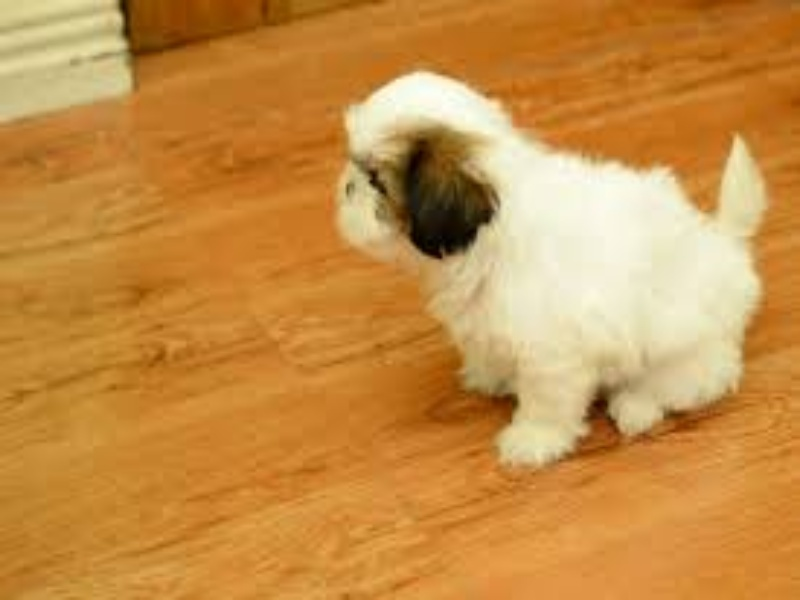dog: (325, 44, 775, 485)
